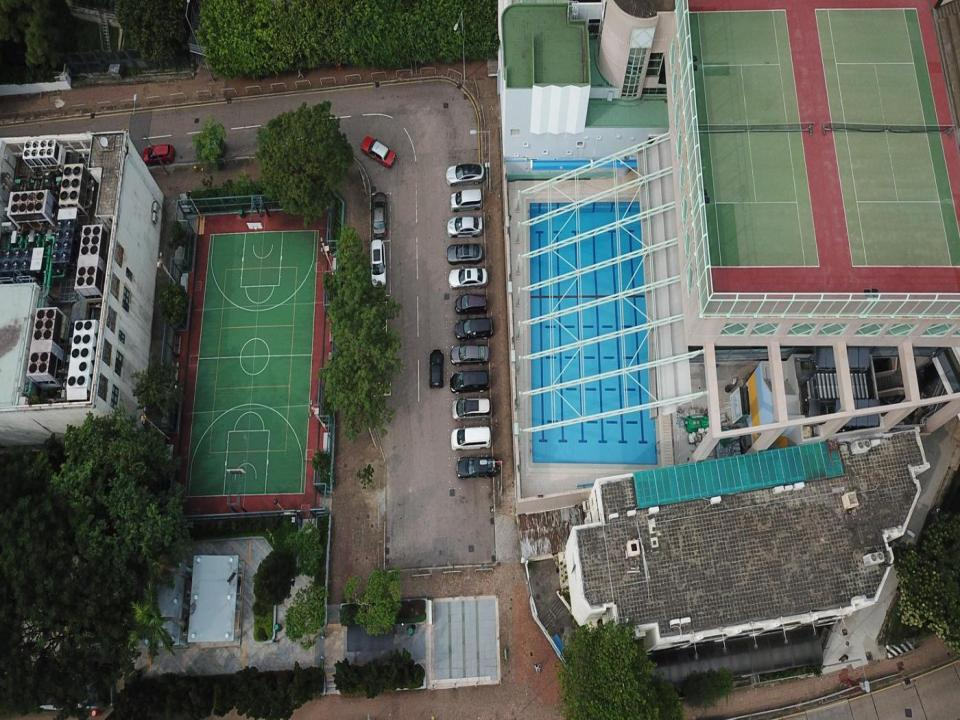car: (360, 134, 397, 168), (458, 455, 497, 479), (445, 164, 487, 185), (370, 192, 389, 237), (454, 294, 489, 318), (449, 267, 488, 288), (370, 239, 386, 288), (450, 188, 482, 212), (450, 344, 490, 363), (446, 242, 482, 263), (448, 216, 482, 238), (144, 146, 175, 166), (428, 349, 443, 389)
van: (451, 428, 490, 451), (452, 397, 490, 420), (450, 371, 490, 392), (455, 317, 491, 339)
